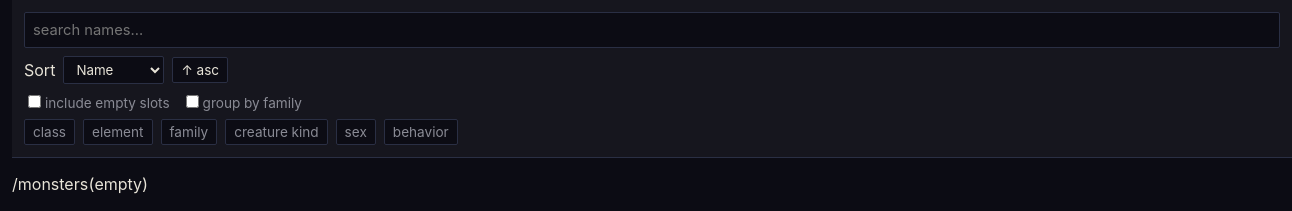
MonsterFilters › toggling include-empty updates the URL
The image size is (1292, 211).
Click the checkbox labelled "include empty slots": click(34, 102) [28,95,41,108]
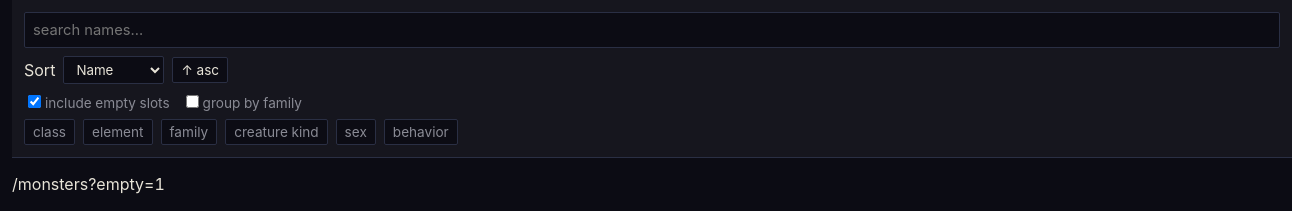
Expected: the text with test id "location" shows "empty=1", [88,174,165,194]
